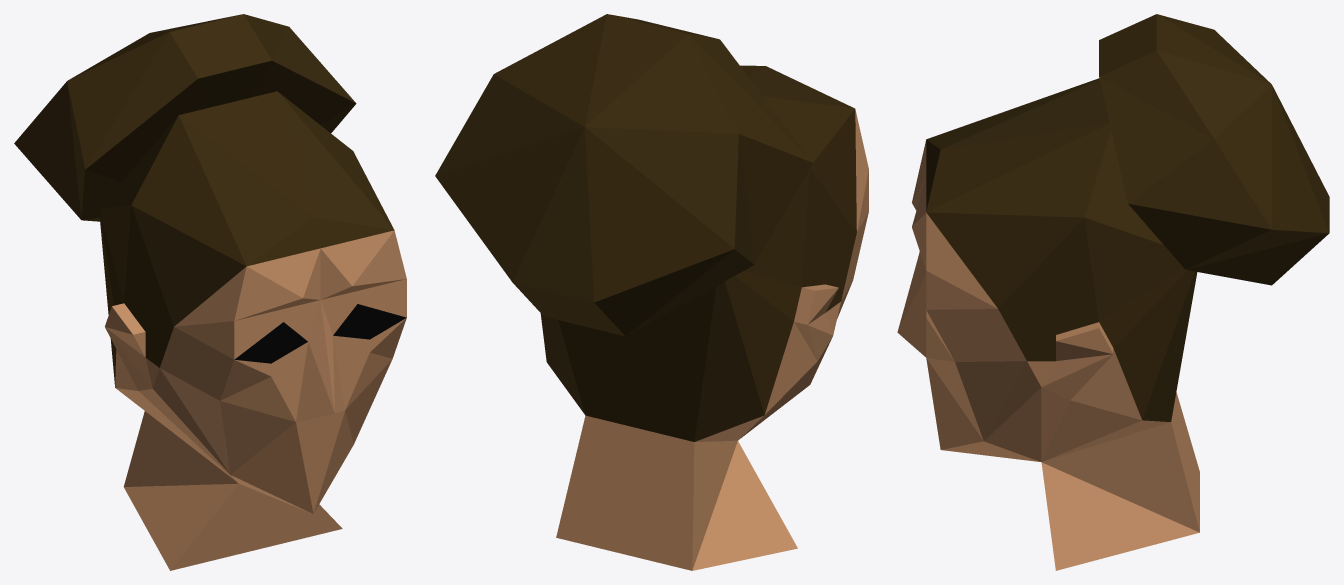
The model's file is model_378_idk.obj.
3 renders of one model, left to right at view 1: azimuth 30°, elevation 25°; view 2: azimuth 150°, elevation 25°; view 3: azimuth 270°, elevation 25°, orthographic. The views are drawn at different scales.
Visible parts, largest first — view 1: 378; view 2: 378; view 3: 378.
Boxes of the visible parts, bbox=[...] form: 378: bbox=[14, 14, 406, 570]; 378: bbox=[435, 14, 868, 570]; 378: bbox=[897, 14, 1329, 570].
Bounding box in the file's own units: 22 × 38 × 30.
